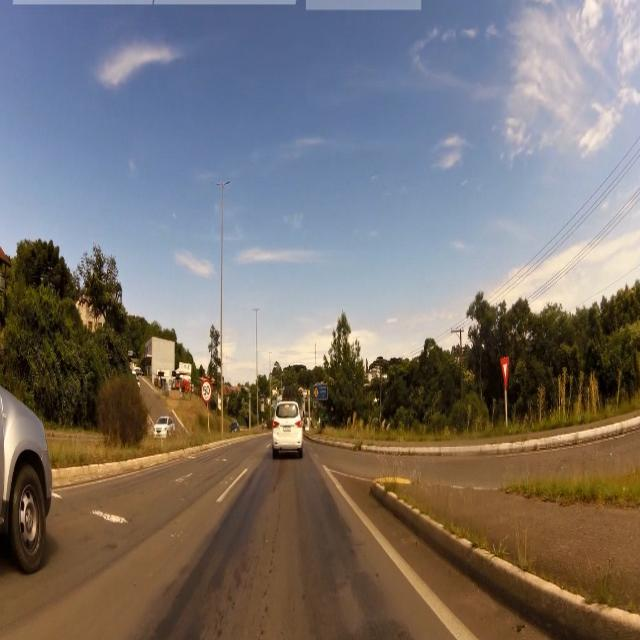R-2: (500, 355, 511, 383)
